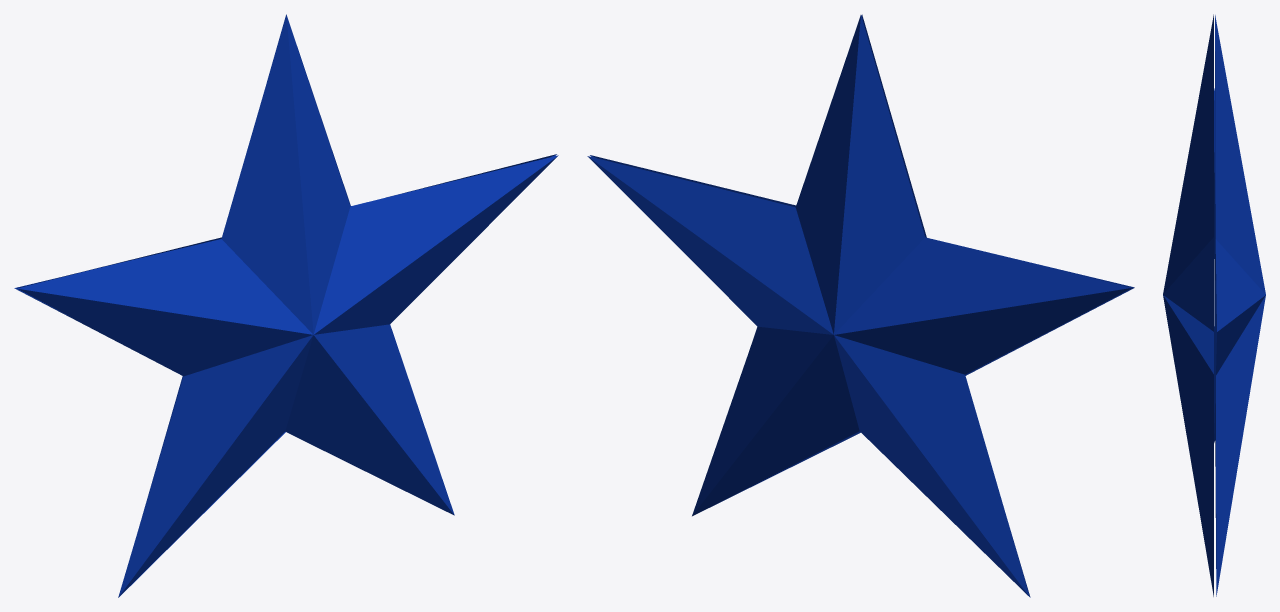
Rendered from health.obj.
3 views of the same model, side by side, from view 1: azimuth 30°, elevation 25°; view 2: azimuth 150°, elevation 25°; view 3: azimuth 270°, elevation 25° (orthographic). The views are drawn at different scales.
Visible parts, largest first — view 1: Circle.001, Circle; view 2: Circle, Circle.001; view 3: Circle, Circle.001.
Boxes of the visible parts, box(x1,y1,x2,y2) form: Circle.001: box(14, 15, 558, 597); Circle: box(15, 14, 556, 596); Circle: box(587, 15, 1134, 596); Circle.001: box(590, 14, 1134, 597); Circle: box(1214, 15, 1265, 596); Circle.001: box(1163, 14, 1213, 596).
Bounding box in the file's own units: 6.44 × 6.12 × 1.13.
